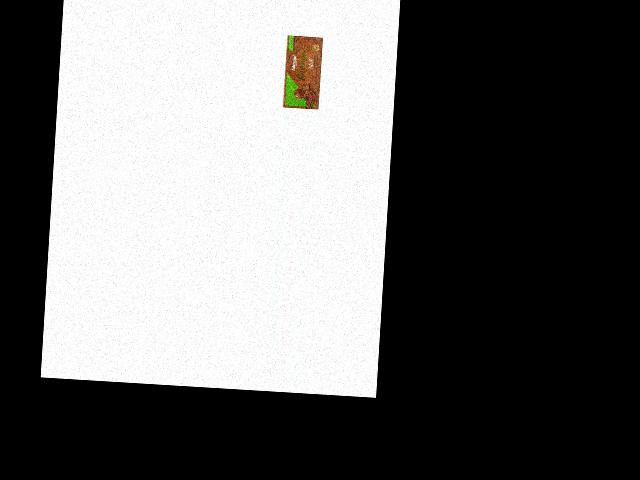chocolate: (279, 32, 324, 110)
